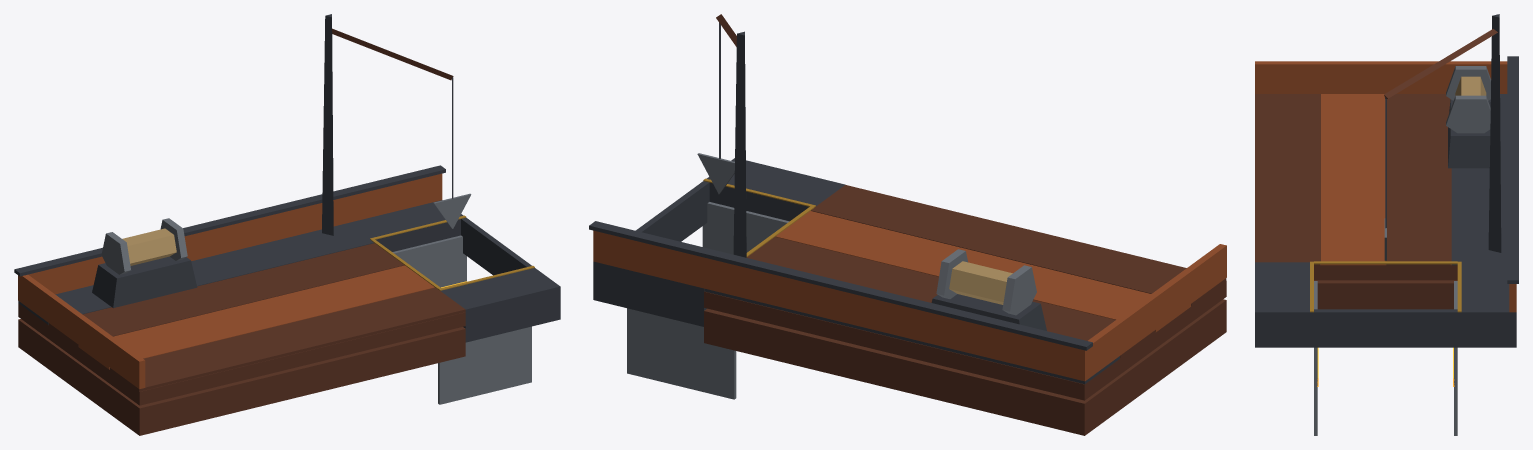
File: SM_Env_ScrapDeck_LQ.glb
3 renders of one model, left to right at view 1: azimuth 30°, elevation 25°; view 2: azimuth 150°, elevation 25°; view 3: azimuth 270°, elevation 25°, orthographic. The views are drawn at different scales.
Parts seen in each view (by area): view 1: SM_Env_ScrapDeck_LQ; view 2: SM_Env_ScrapDeck_LQ; view 3: SM_Env_ScrapDeck_LQ.
Part boxes in pixels (bbox=[...]): SM_Env_ScrapDeck_LQ: bbox=[14, 14, 560, 435]; SM_Env_ScrapDeck_LQ: bbox=[589, 14, 1226, 435]; SM_Env_ScrapDeck_LQ: bbox=[1255, 14, 1518, 435].
Size of the model in its own units: 16.2 by 12.1 by 8.07.
1 material, 1 textured.
